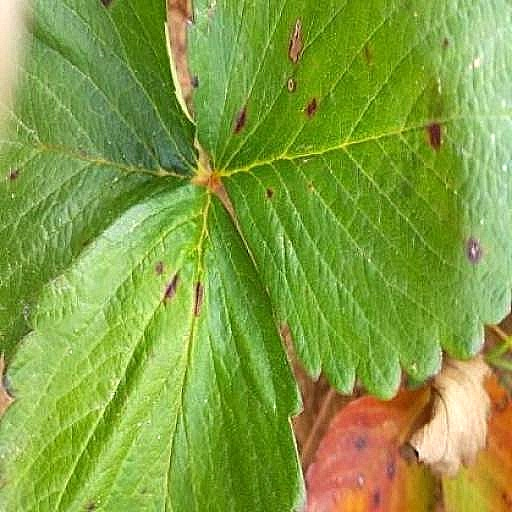Leaf Spot: (0, 111, 326, 511), (207, 0, 511, 328), (301, 143, 511, 511), (76, 0, 208, 131)
